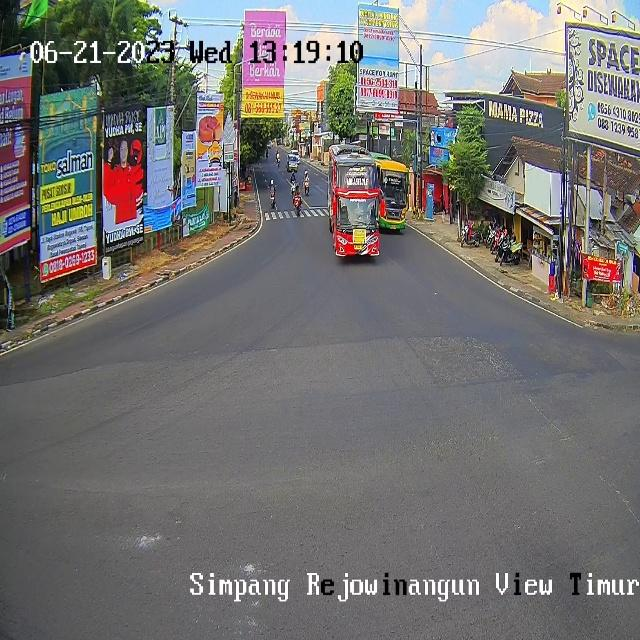bus: (293, 194, 302, 216), (303, 177, 310, 196), (270, 193, 276, 208), (290, 180, 296, 192)
car: (328, 145, 381, 257), (370, 152, 407, 230)
